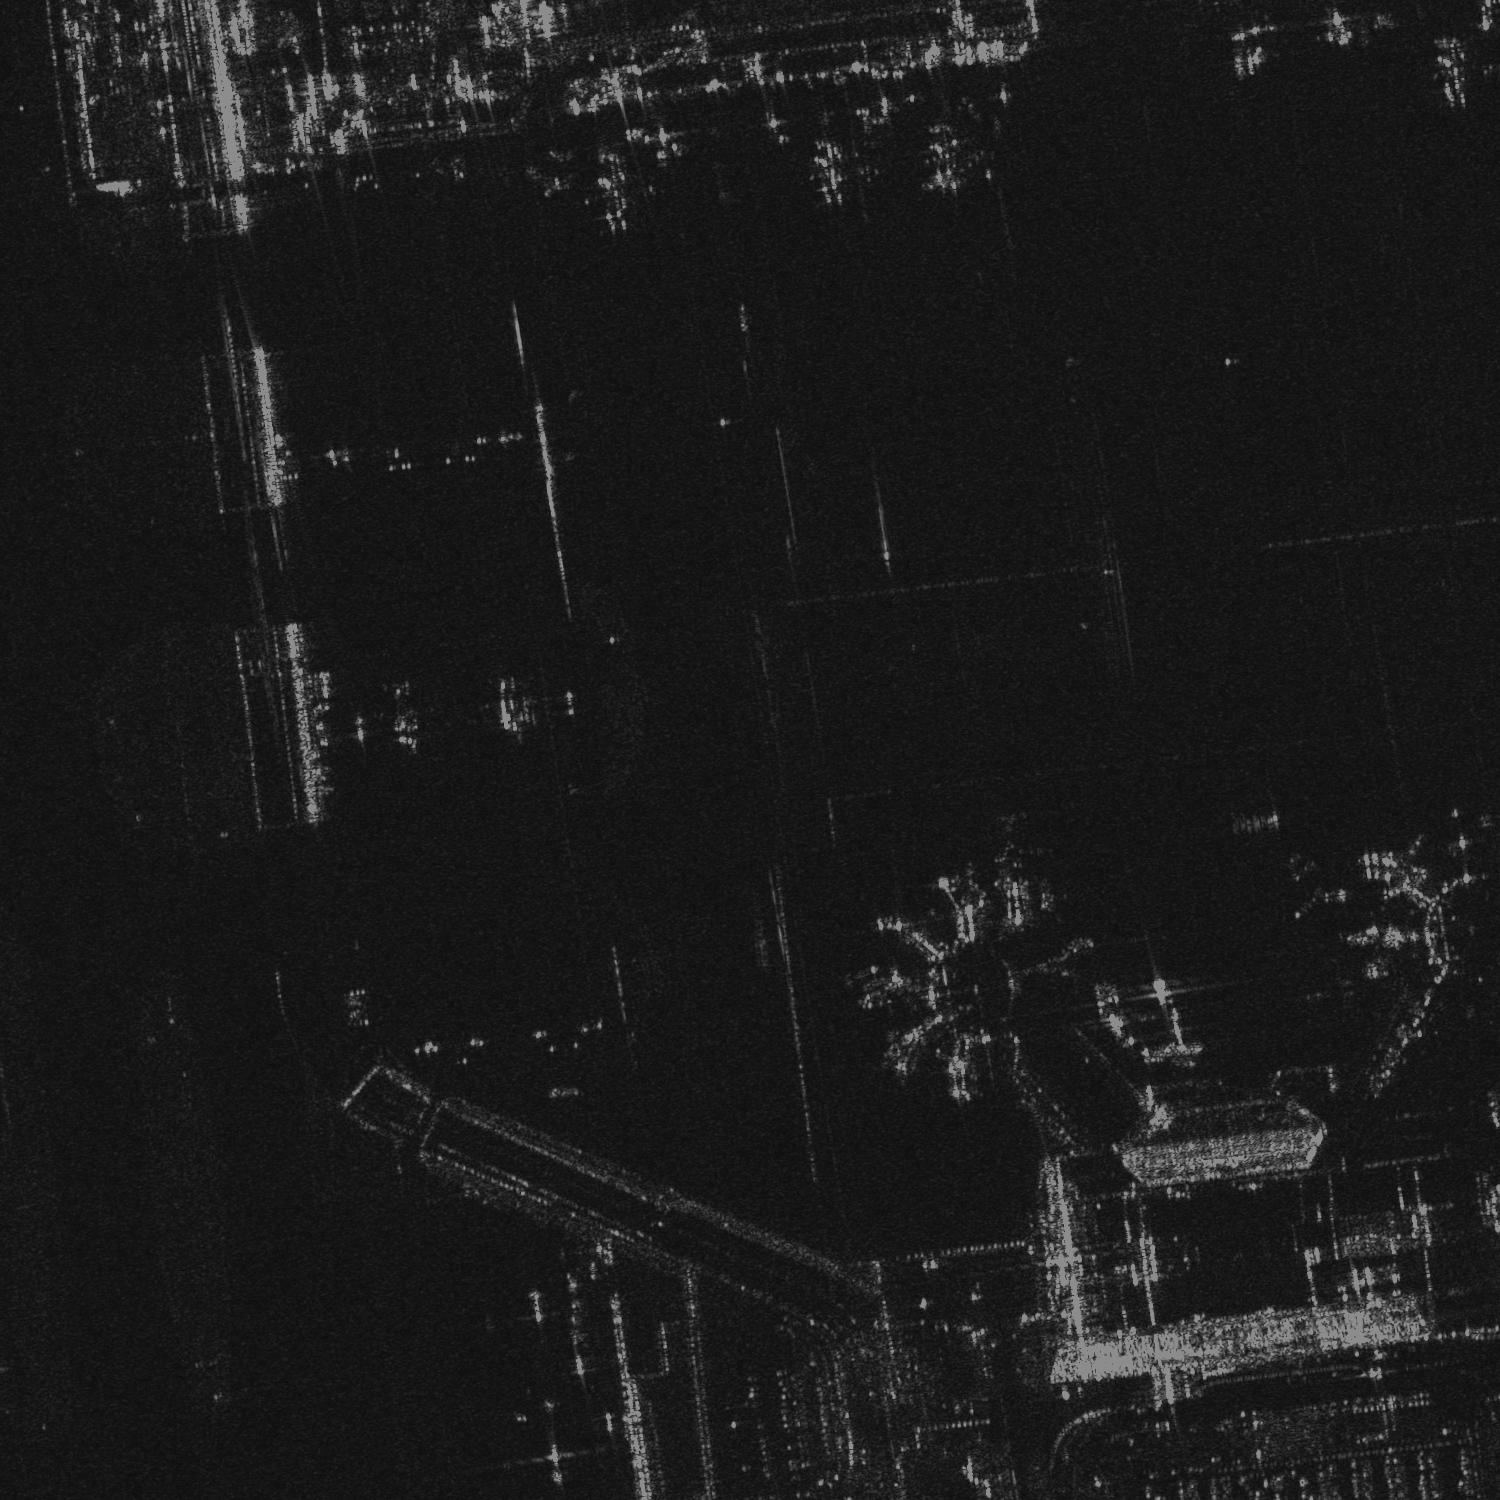A220: (372, 679, 437, 751), (1293, 854, 1352, 920), (985, 815, 1040, 871), (1312, 968, 1357, 1010)
Boeing787: (584, 151, 657, 234), (1416, 34, 1495, 110), (795, 132, 865, 209), (918, 126, 981, 194)
